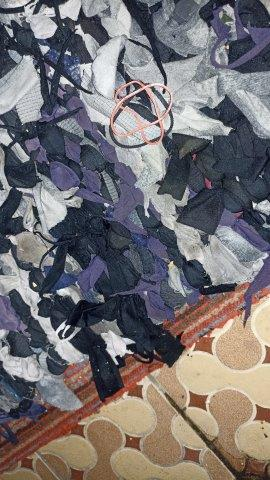karet: (109, 80, 174, 150)
